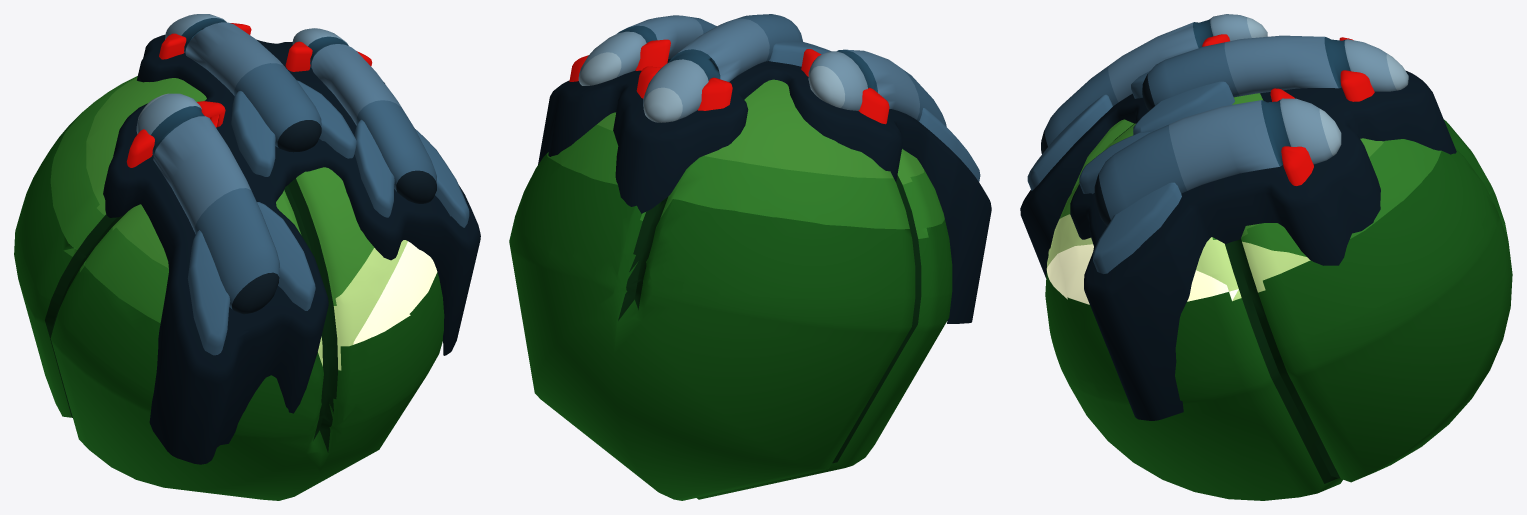
File: pu_mini_missile.glb
3 renders of one model, left to right at view 1: azimuth 30°, elevation 25°; view 2: azimuth 150°, elevation 25°; view 3: azimuth 270°, elevation 25°, orthographic. The views are drawn at different scales.
Parts seen in each view (by area): view 1: orb, mini_setting, mini2, mini0, mini1, mini_fin2-1, mini_fin21, mini_fin0-1, mini_fin1-1, mini_fin01, mini_fin11, mini_canard2-1 (+2 smaller); view 2: orb, mini_setting, mini0, mini2, mini1, mini_fin2-1, mini_fin0-1, mini_canard0-1, mini_canard1-1, mini_canard2-1; view 3: orb, mini_setting, mini1, mini0, mini2, mini_fin11, mini_fin01, mini_fin21, mini_fin1-1, mini_canard11, mini_canard01.
Part boxes in pixels (left/top/right/bottom): orb: left=14, top=76, right=444, bottom=500; mini_setting: left=103, top=34, right=480, bottom=464; mini2: left=136, top=93, right=279, bottom=314; mini0: left=165, top=14, right=321, bottom=152; mini1: left=292, top=28, right=436, bottom=203; mini_fin2-1: left=187, top=230, right=230, bottom=355; mini_fin21: left=257, top=202, right=315, bottom=310; mini_fin0-1: left=231, top=91, right=275, bottom=176; mini_fin1-1: left=354, top=119, right=394, bottom=217; mini_fin01: left=297, top=80, right=356, bottom=158; mini_fin11: left=415, top=129, right=469, bottom=227; mini_canard2-1: left=126, top=129, right=154, bottom=167; orb: left=509, top=79, right=952, bottom=500; mini_setting: left=538, top=58, right=991, bottom=323; mini0: left=643, top=14, right=802, bottom=122; mini2: left=808, top=49, right=946, bottom=126; mini1: left=578, top=15, right=716, bottom=85; mini_fin2-1: left=919, top=108, right=980, bottom=181; mini_fin0-1: left=769, top=41, right=830, bottom=66; mini_canard0-1: left=698, top=77, right=732, bottom=110; mini_canard1-1: left=635, top=39, right=670, bottom=70; mini_canard2-1: left=858, top=87, right=889, bottom=124; orb: left=1045, top=93, right=1512, bottom=500; mini_setting: left=1020, top=70, right=1456, bottom=420; mini1: left=1094, top=98, right=1341, bottom=225; mini0: left=1142, top=35, right=1408, bottom=110; mini2: left=1041, top=14, right=1267, bottom=153; mini_fin11: left=1093, top=182, right=1181, bottom=273; mini_fin01: left=1133, top=81, right=1234, bottom=134; mini_fin21: left=1027, top=94, right=1112, bottom=190; mini_fin1-1: left=1079, top=131, right=1152, bottom=193; mini_canard11: left=1281, top=146, right=1313, bottom=185; mini_canard01: left=1340, top=70, right=1374, bottom=101.
Size of the model in its own units: 20.04 by 22.6 by 22.06.
